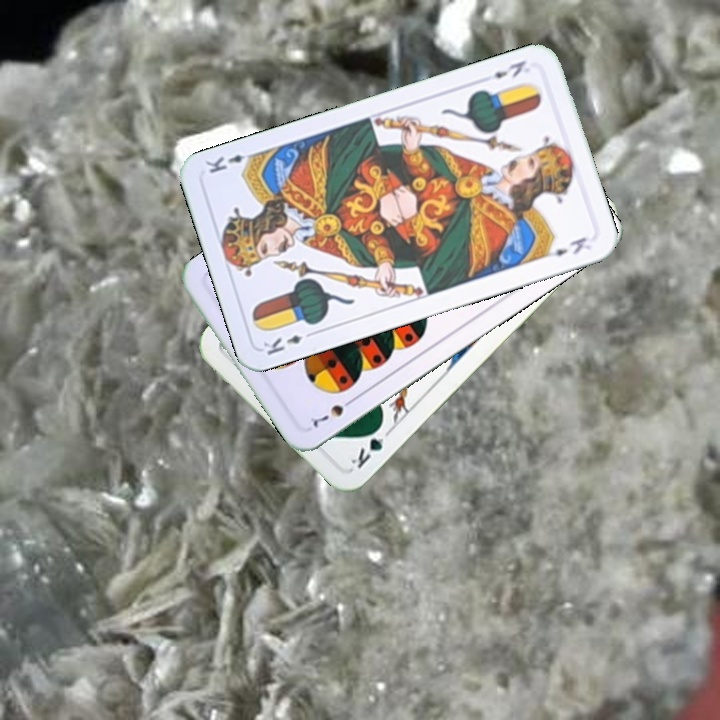EK: (259, 327, 318, 358), (489, 56, 529, 81)
GK: (346, 420, 387, 471)
S7: (306, 393, 359, 429)
